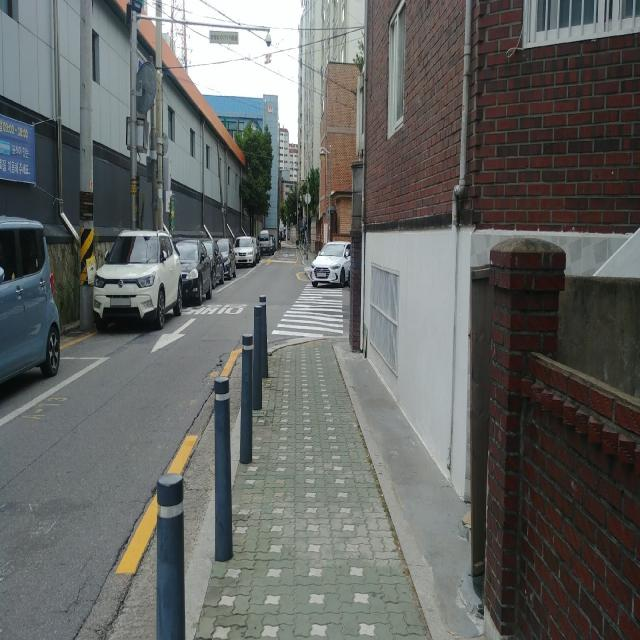횡단보도: (271, 282, 344, 339)
